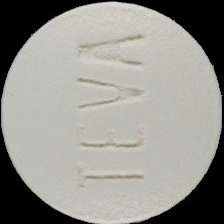68258-7152: (0, 0, 224, 224)
